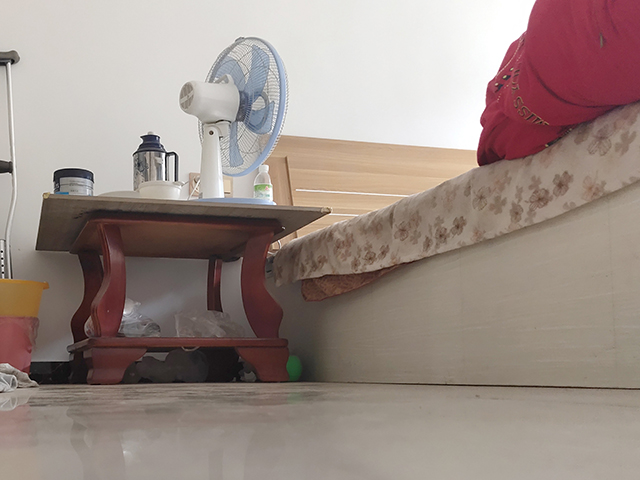bed: (254, 99, 640, 391)
table: (33, 189, 334, 387)
trashcan: (1, 313, 42, 379)
